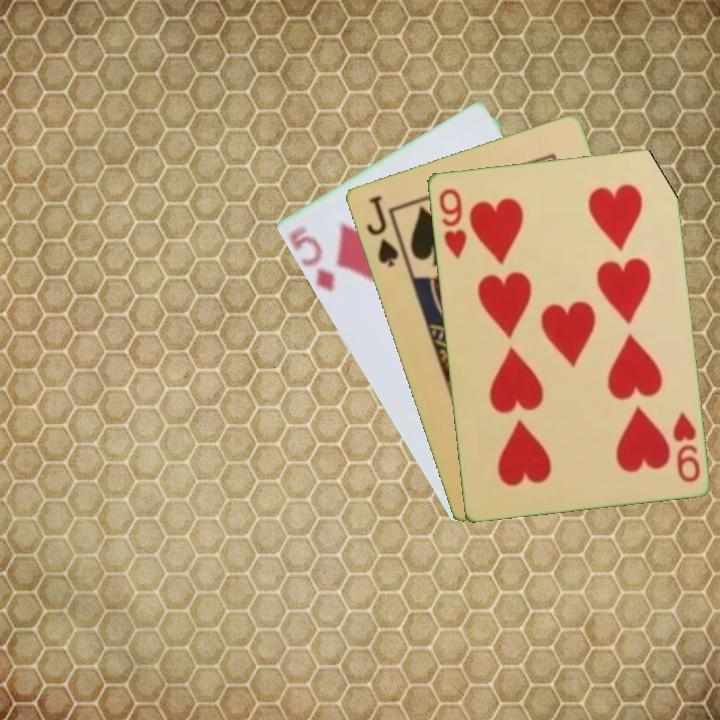5d: (285, 222, 338, 295)
9h: (668, 408, 703, 485), (435, 185, 469, 261)
Js: (362, 191, 401, 270)
